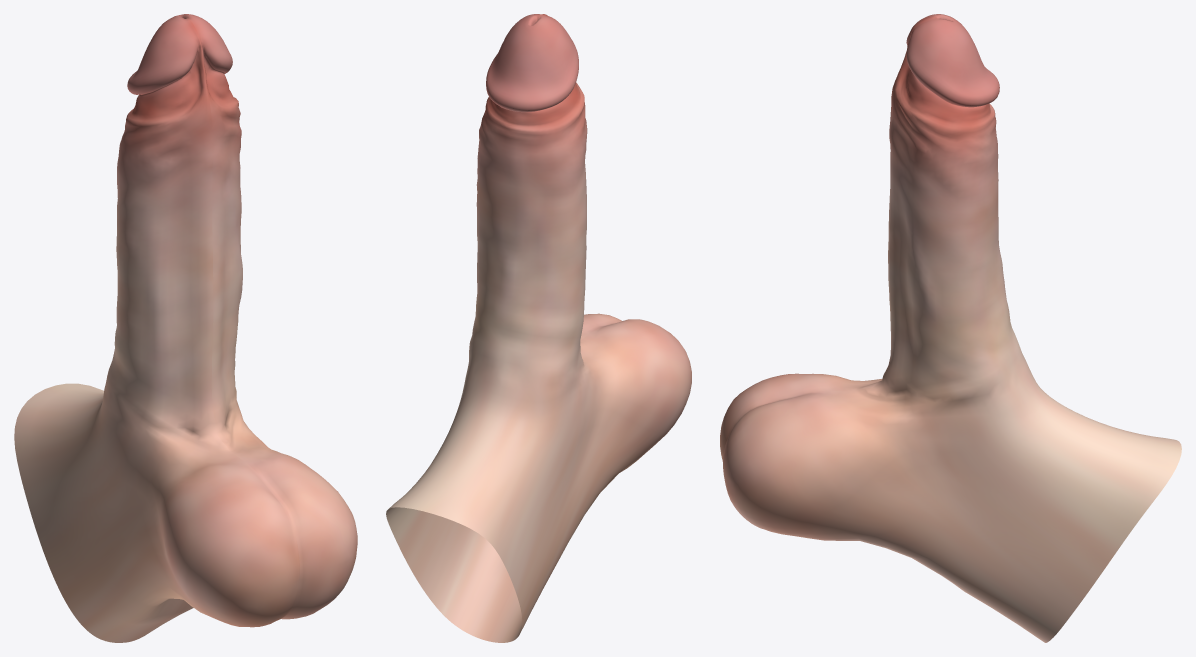
File: Scarlett Custom Hotdog Dick Penetrator V5.fbx
3 renders of one model, left to right at view 1: azimuth 30°, elevation 25°; view 2: azimuth 150°, elevation 25°; view 3: azimuth 270°, elevation 25°, orthographic. The views are drawn at different scales.
Parts seen in each view (by area): view 1: Dick Mesh Base; view 2: Dick Mesh Base; view 3: Dick Mesh Base.
Part boxes in pixels (<box>): Dick Mesh Base: <box>14,14,357,642</box>; Dick Mesh Base: <box>386,14,691,642</box>; Dick Mesh Base: <box>720,14,1181,642</box>.
Bounding box in the file's own units: 0.0853 × 0.3278 × 0.2213.
